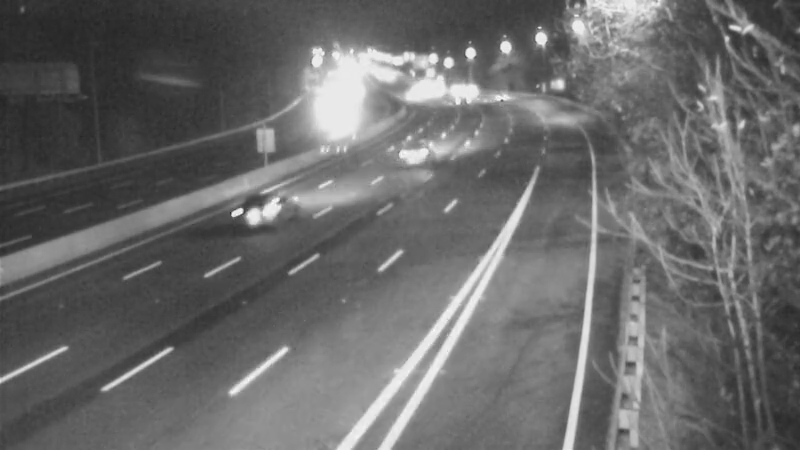vehicle: (211, 173, 291, 253), (476, 72, 526, 122), (435, 77, 485, 127), (395, 125, 445, 175)
